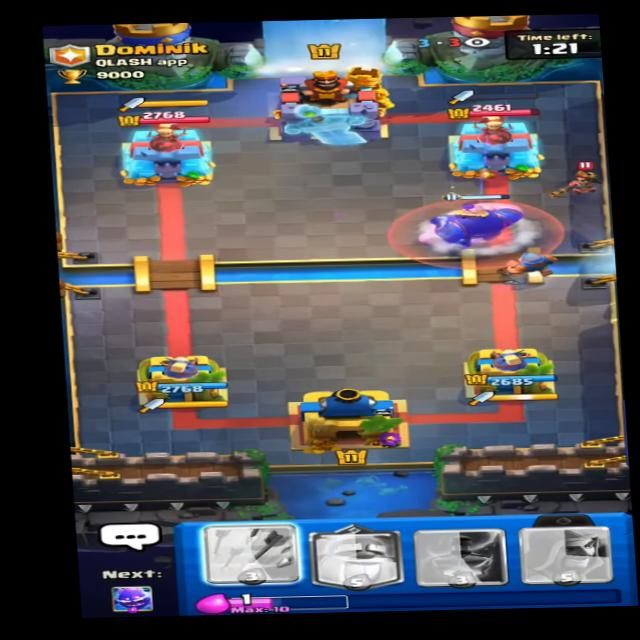little-prince: (566, 160, 608, 197)
